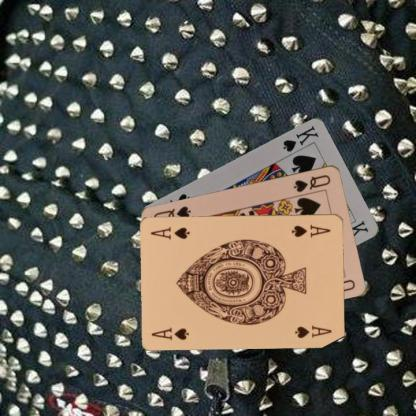As: (149, 324, 190, 342), (290, 221, 332, 238)
Ks: (280, 123, 320, 153)
Qs: (291, 172, 332, 194)
